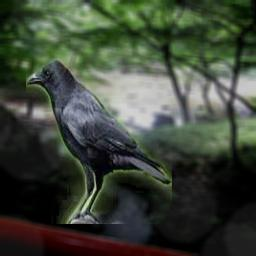Crow: (26, 58, 172, 224)
